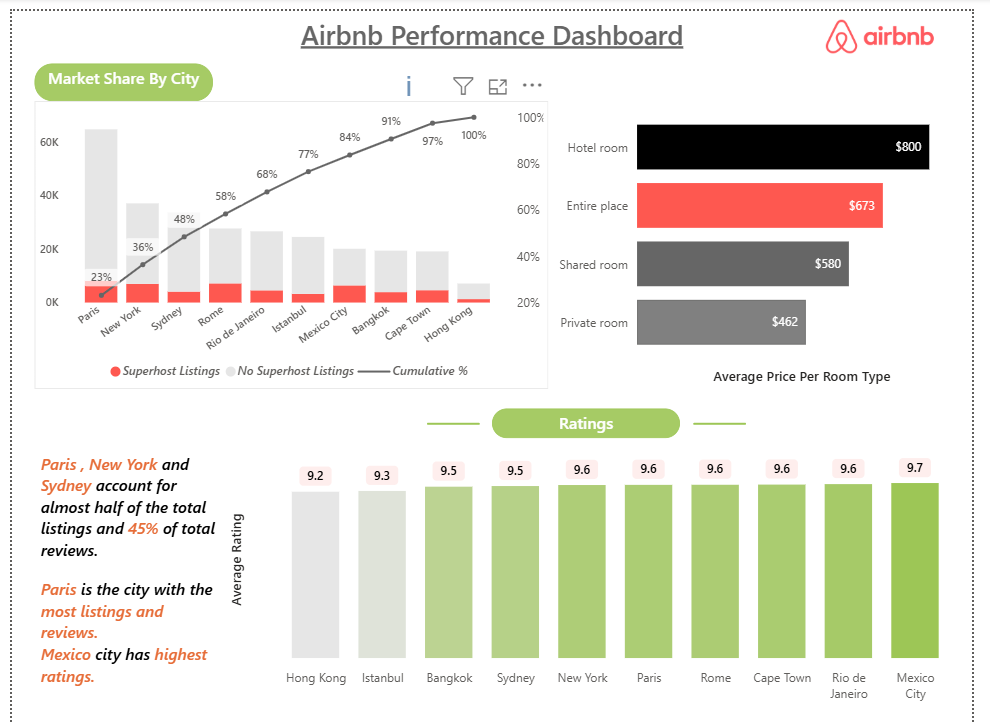

The page's visual inventory and layout, read from the dashboard file:
{"tool":"powerbi","page":{"name":"Ratings","canvas":[960,720],"ordinal":1},"visuals":[{"type":"textbox","box":[257.5,0,445,67.5],"z":0},{"type":"image","box":[776.2,8.8,183.8,33.8],"z":1000},{"type":"textbox","box":[22,52.6,178.5,37.9],"z":2000},{"type":"shape","box":[414.4,362.8,52.8,100.6],"z":3000},{"type":"shape","box":[681.1,362.8,52.8,100.6],"z":4000},{"type":"lineStackedColumnComboChart","fields":{"Category":["Listings.city"],"Y":["Listings.Superhost Listings","Listings.No Superhost Listings"],"Y2":["Listings.Cumulative %"]},"box":[22.5,90,513.8,288.8],"z":5000},{"type":"clusteredBarChart","fields":{"Category":["Listings.room_type"],"Y":["Listings.Avg Price"]},"box":[536.2,77.5,423.8,301.2],"z":6000},{"type":"columnChart","fields":{"Category":["Listings.city"],"Y":["Listings.Avg Rating"]},"box":[214,436,746,262],"z":7000},{"type":"textbox","box":[480.6,397.4,188.3,29.3],"z":8000},{"type":"textbox","box":[23.2,436.6,190.8,261.7],"z":9000}]}

Visuals, with their boxes in screenshot pixels (x1, y1, x2, y2), scaled from the page's 960x720 canvas onto the 990x723 screenshot:
textbox: rect(266, 0, 724, 68)
image: rect(800, 9, 989, 43)
textbox: rect(23, 53, 207, 91)
shape: rect(427, 364, 482, 465)
shape: rect(702, 364, 757, 465)
lineStackedColumnComboChart - Listings.city x Listings.Superhost Listings: rect(23, 90, 553, 380)
clusteredBarChart - Listings.room_type x Listings.Avg Price: rect(553, 78, 989, 380)
columnChart - Listings.city x Listings.Avg Rating: rect(221, 438, 989, 701)
textbox: rect(496, 399, 690, 428)
textbox: rect(24, 438, 221, 701)
